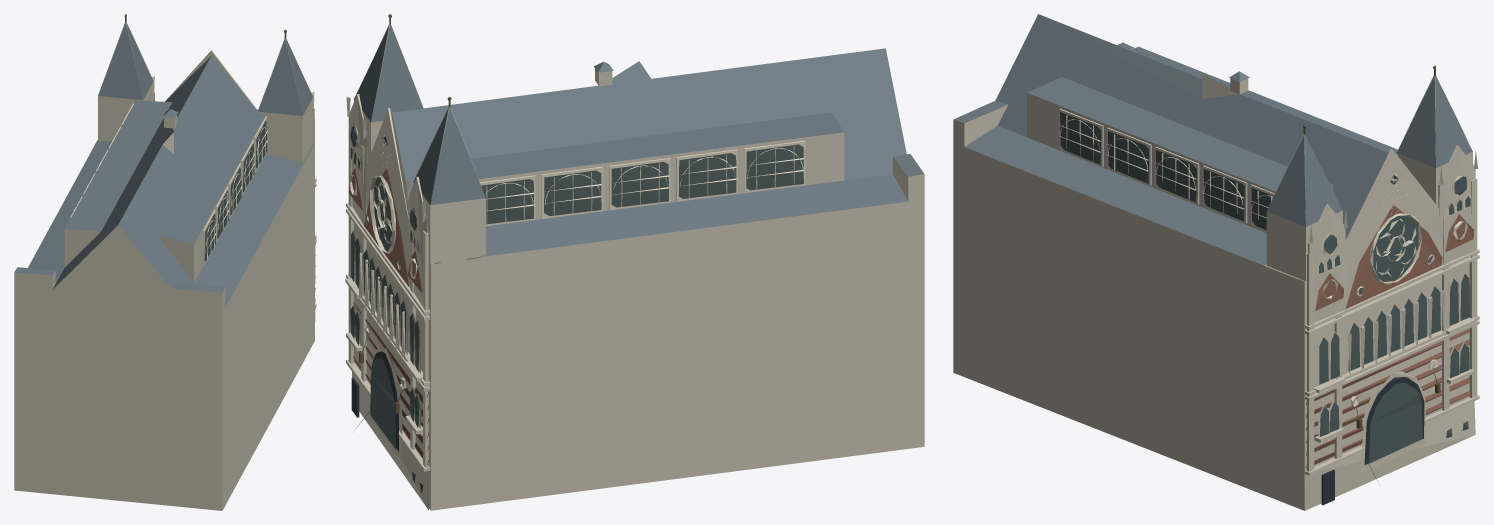
File: keizersgrachtkerk.lod1.glb
3 renders of one model, left to right at view 1: azimuth 30°, elevation 25°; view 2: azimuth 150°, elevation 25°; view 3: azimuth 270°, elevation 25°, orthographic. The views are drawn at different scales.
Visible parts, largest first — view 1: keizersgrachtkerk; view 2: keizersgrachtkerk; view 3: keizersgrachtkerk.
Part boxes in pixels (<box>): keizersgrachtkerk: <box>14,14,316,510</box>; keizersgrachtkerk: <box>345,14,924,510</box>; keizersgrachtkerk: <box>953,14,1479,510</box>.
Size of the model in its own units: 30.48 by 24.22 by 31.25.
